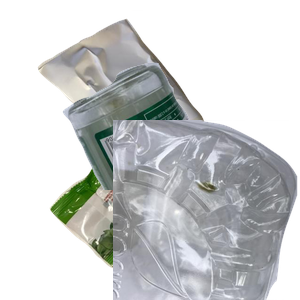glass: (60, 60, 300, 240)
paper: (35, 10, 237, 178)
plastic: (113, 120, 300, 300)
trash: (47, 146, 220, 300)
